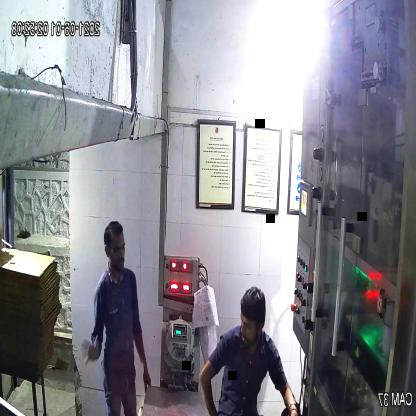no_goggles: (238, 309, 267, 335), (102, 240, 128, 260)
